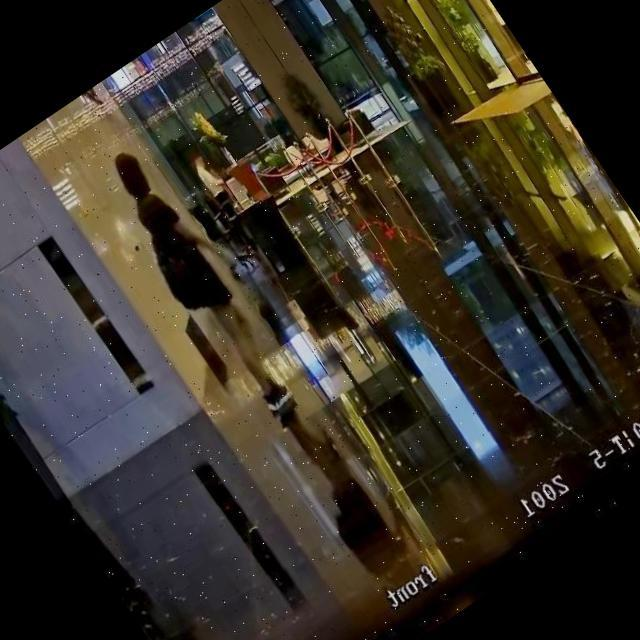person: (92, 140, 310, 426), (186, 148, 266, 254), (471, 0, 531, 64)
